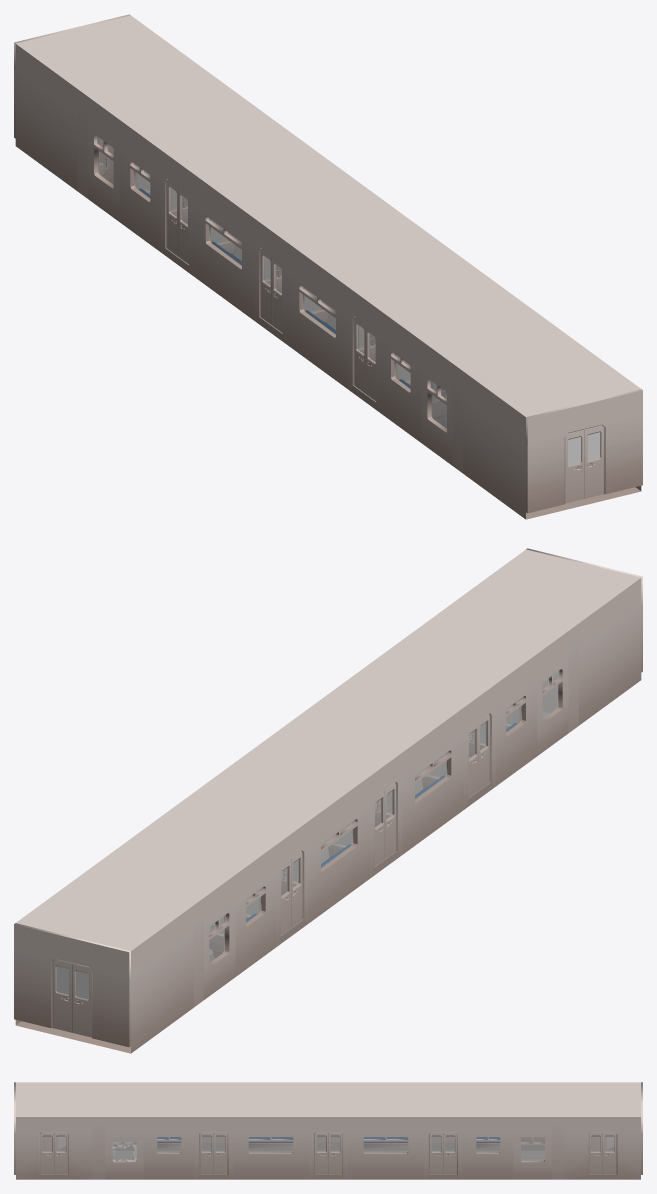
The model's file is TrainLoop 3.fbx.
The picture shows the model from 3 angles, top to bottom: view 1: azimuth 30°, elevation 25°; view 2: azimuth 150°, elevation 25°; view 3: azimuth 270°, elevation 25°; orthographic projection. The views are drawn at different scales.
Parts seen in each view (by area): view 1: Wall_Door_Outside.004, Wall_Door_Outside.003, Wall_Large_Window_Outside.001, Wall_Large_Window_Outside, Wall_Small_Window_Outside.001, Wall_Small_Window_Outside, WallDoor.003, Wall_Tall_Window_Outside.001, Wall_Tall_Window_Outside, Wall_Door_Outside.001, Wall_Door_Outside, Wall_Door_Outside.002 (+11 smaller); view 2: Wall_Door_Outside.003, Wall_Door_Outside.004, Wall_Large_Window_Outside, Wall_Large_Window_Outside.001, Wall_Small_Window_Outside, Wall_Small_Window_Outside.001, WallDoor.002, Wall_Tall_Window_Outside, Wall_Tall_Window_Outside.001, Wall_Door_Outside.001, Wall_Door_Outside.002, Wall_Door_Outside (+11 smaller); view 3: Wall_Large_Window_Outside, Wall_Large_Window_Outside.001, Wall_Door_Outside.003, Wall_Door_Outside.004, Wall_Small_Window_Outside.001, Wall_Small_Window_Outside, Wall_Tall_Window_Outside, Wall_Tall_Window_Outside.001, Wall_Door_Outside, Wall_Door_Outside.001, Wall_Door_Outside.002, Small_Wall_Outside (+28 smaller).
Part boxes in pixels (left/top/right/bottom): Wall_Door_Outside.004: left=463, top=343, right=641, bottom=519; Wall_Door_Outside.003: left=15, top=15, right=192, bottom=191; Wall_Large_Window_Outside.001: left=192, top=145, right=370, bottom=320; Wall_Large_Window_Outside: left=286, top=213, right=463, bottom=389; Wall_Small_Window_Outside.001: left=119, top=92, right=276, bottom=252; Wall_Small_Window_Outside: left=380, top=282, right=536, bottom=442; WallDoor.003: left=526, top=389, right=642, bottom=513; Wall_Tall_Window_Outside.001: left=88, top=69, right=234, bottom=221; Wall_Tall_Window_Outside: left=421, top=313, right=567, bottom=465; Wall_Door_Outside.001: left=255, top=191, right=401, bottom=343; Wall_Door_Outside: left=161, top=122, right=307, bottom=275; Wall_Door_Outside.002: left=349, top=259, right=494, bottom=412; Wall_Door_Outside.003: left=15, top=877, right=193, bottom=1053; Wall_Door_Outside.004: left=464, top=549, right=641, bottom=725; Wall_Large_Window_Outside: left=286, top=679, right=464, bottom=854; Wall_Large_Window_Outside.001: left=193, top=747, right=370, bottom=923; Wall_Small_Window_Outside: left=380, top=626, right=537, bottom=786; Wall_Small_Window_Outside.001: left=120, top=816, right=276, bottom=976; WallDoor.002: left=14, top=923, right=130, bottom=1047; Wall_Tall_Window_Outside: left=422, top=603, right=568, bottom=755; Wall_Tall_Window_Outside.001: left=89, top=847, right=235, bottom=999; Wall_Door_Outside.001: left=255, top=725, right=401, bottom=877; Wall_Door_Outside.002: left=349, top=656, right=495, bottom=809; Wall_Door_Outside: left=162, top=793, right=307, bottom=946; Wall_Large_Window_Outside: left=232, top=1082, right=309, bottom=1179; Wall_Large_Window_Outside.001: left=347, top=1082, right=424, bottom=1179; Wall_Door_Outside.003: left=564, top=1082, right=640, bottom=1179; Wall_Door_Outside.004: left=16, top=1082, right=92, bottom=1179; Wall_Small_Window_Outside.001: left=462, top=1082, right=513, bottom=1179; Wall_Small_Window_Outside: left=143, top=1082, right=194, bottom=1179; Wall_Tall_Window_Outside: left=105, top=1082, right=143, bottom=1179; Wall_Tall_Window_Outside.001: left=513, top=1082, right=551, bottom=1179; Wall_Door_Outside: left=424, top=1082, right=462, bottom=1179; Wall_Door_Outside.001: left=309, top=1082, right=347, bottom=1179; Wall_Door_Outside.002: left=194, top=1082, right=232, bottom=1179; Small_Wall_Outside: left=551, top=1082, right=564, bottom=1179.
Bounding box in the file's own units: 6.4 × 49.3 × 5.71.
7 materials, 1 textured.
